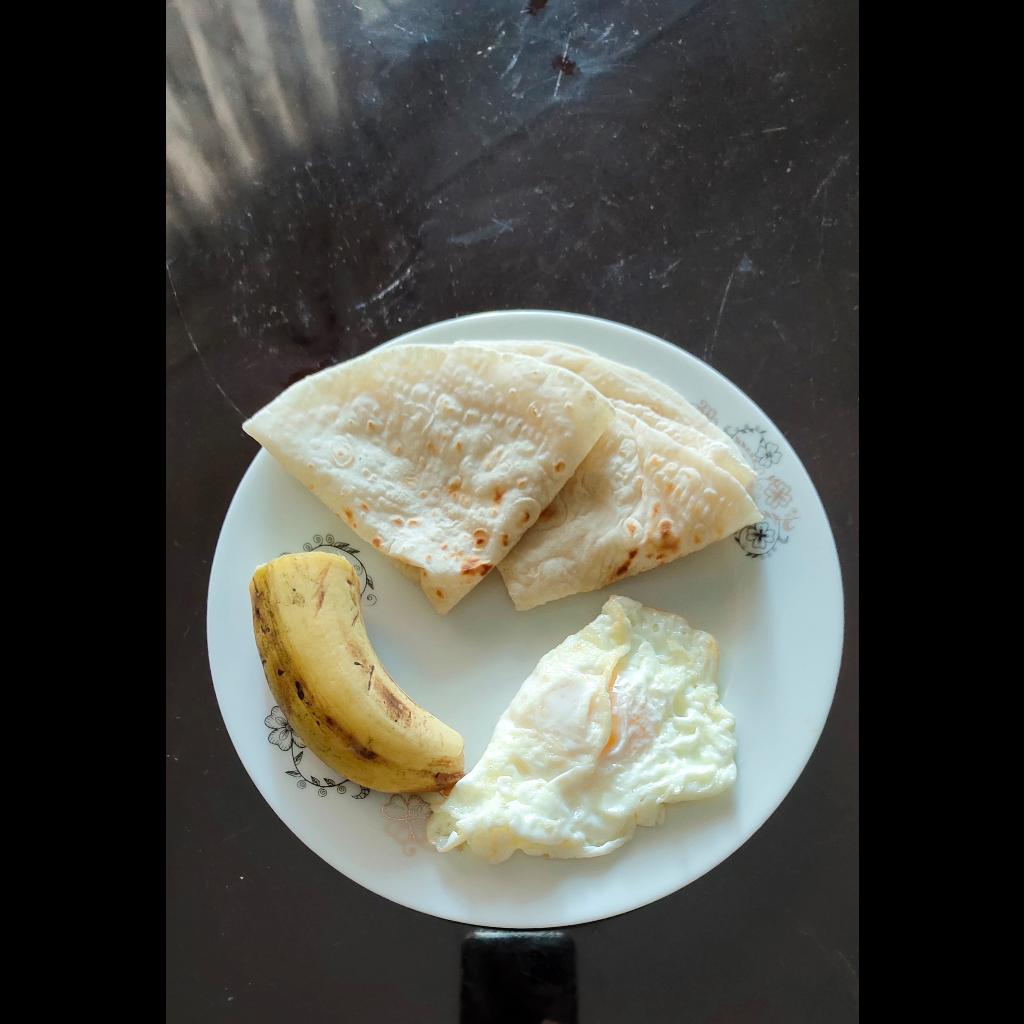banana: (247, 551, 466, 795)
egg-poached: (426, 592, 738, 865)
ruti: (239, 340, 765, 626)
